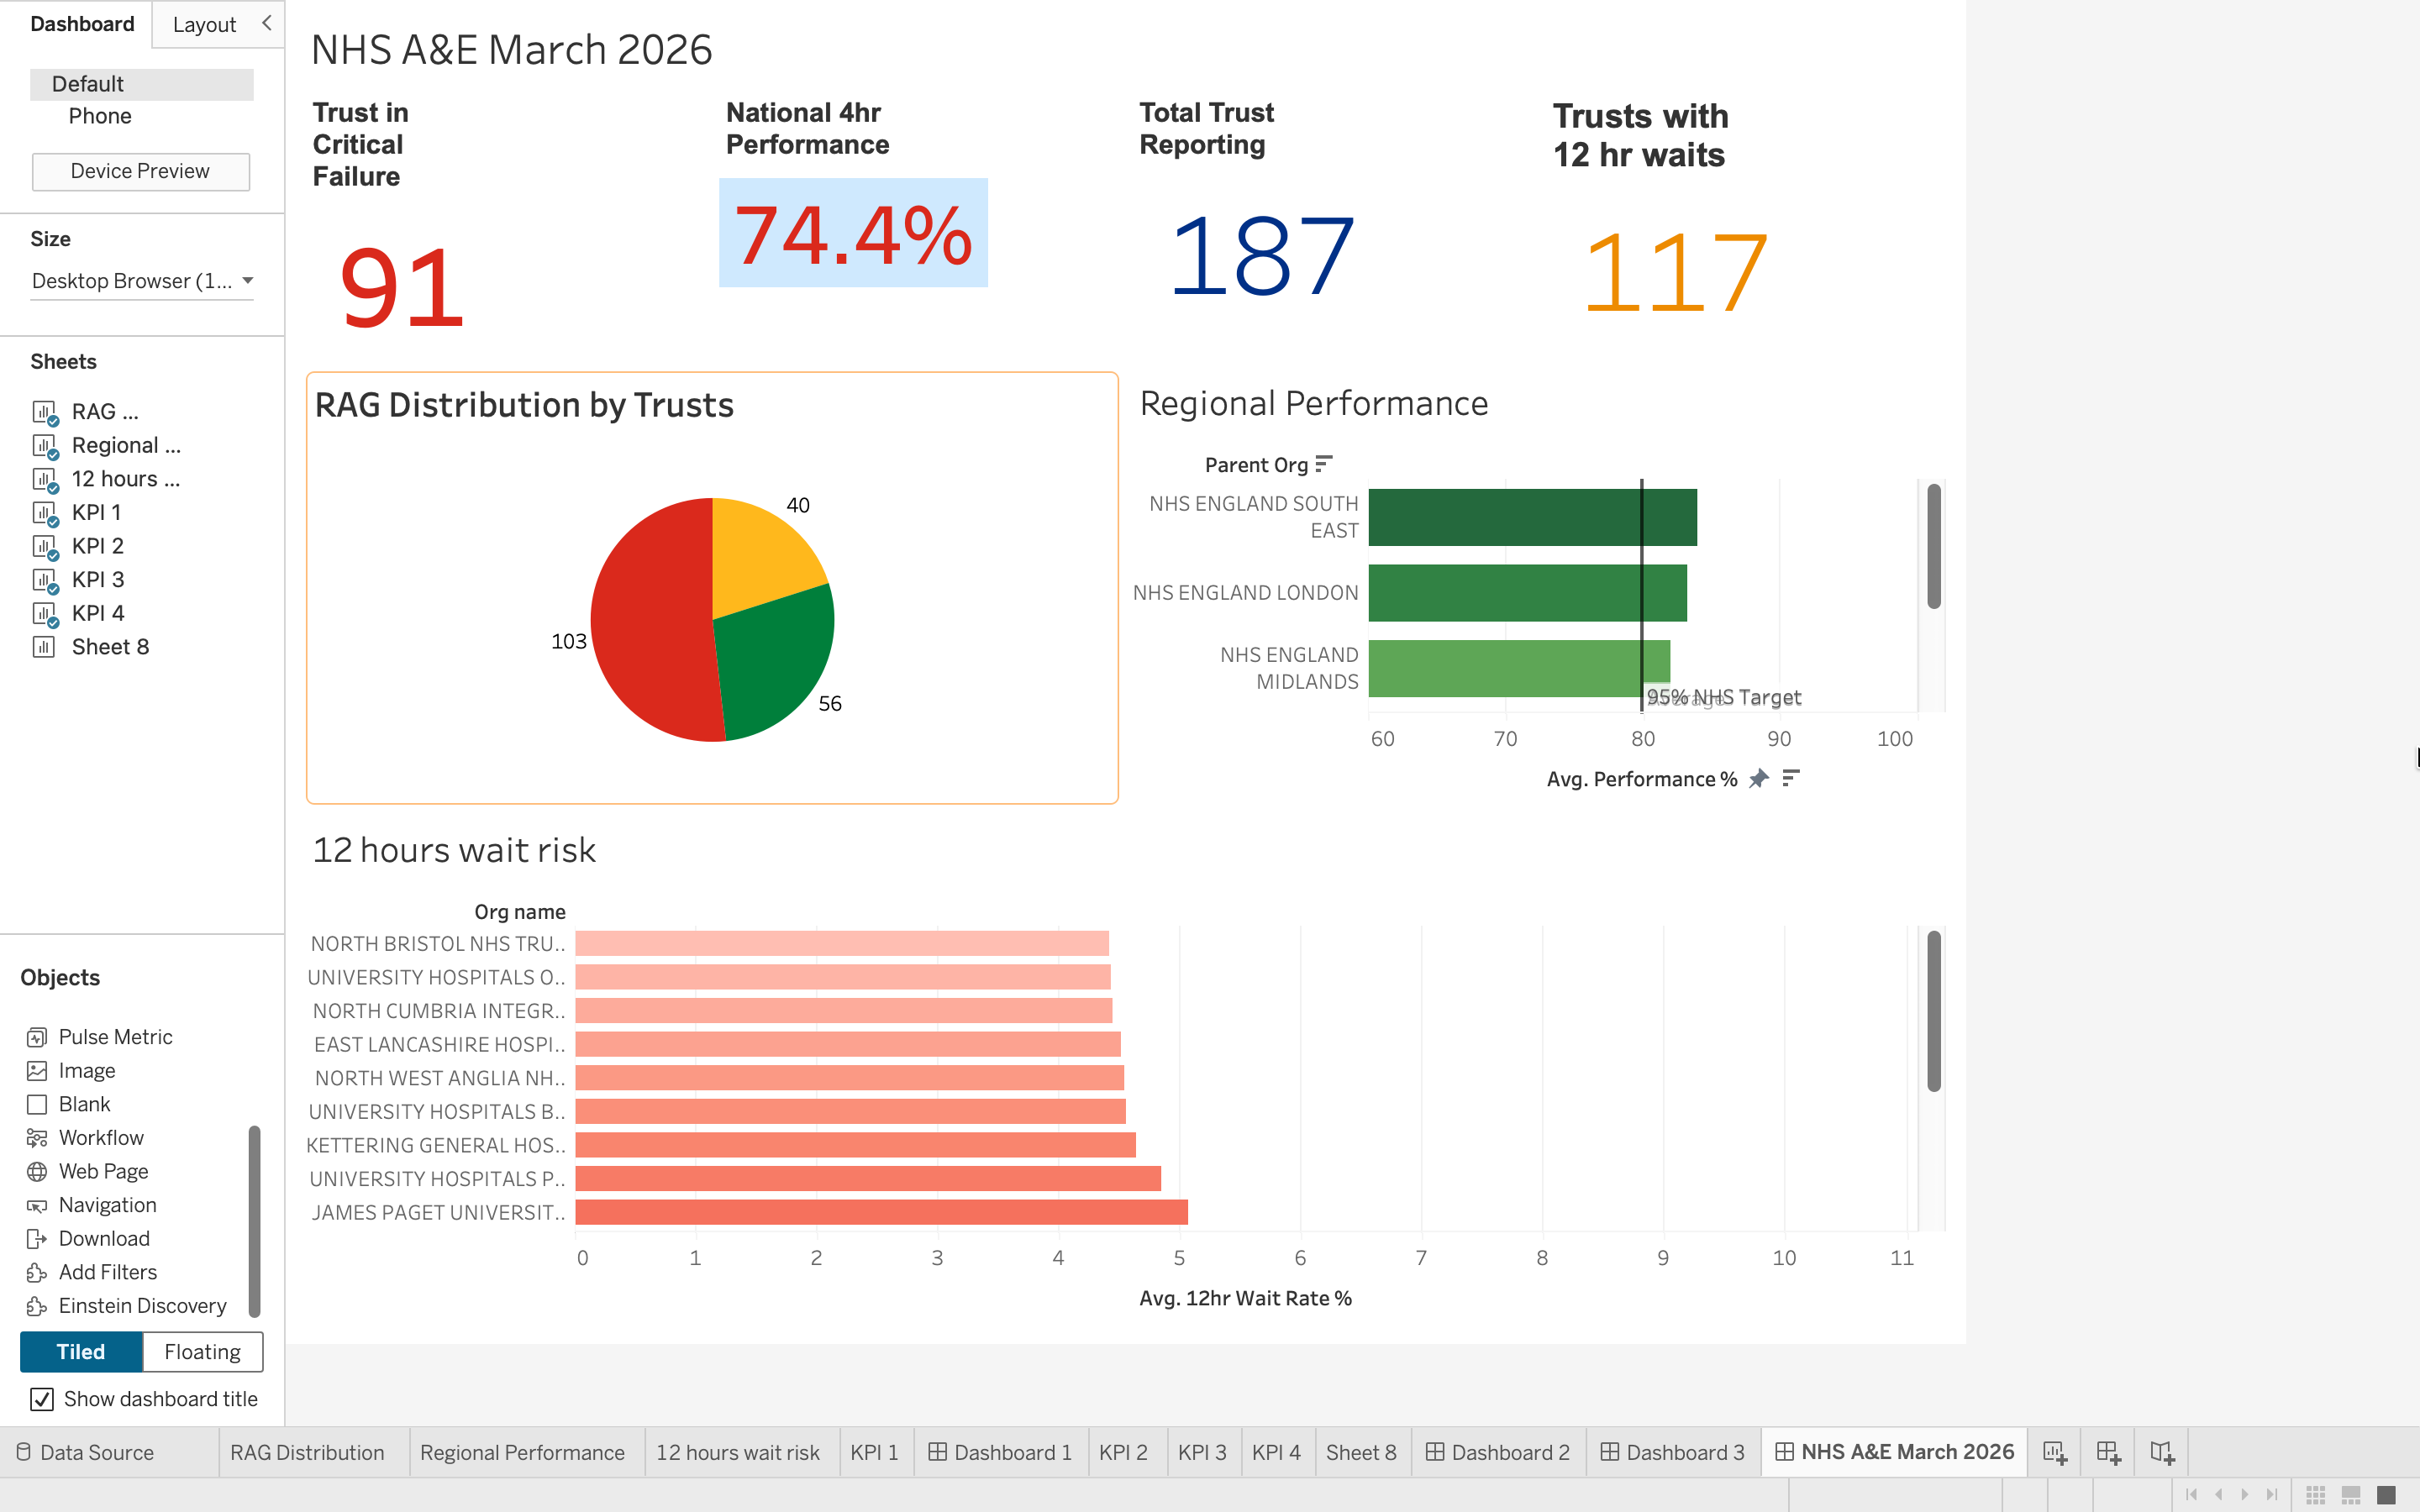

What the dashboard file says about the page in this screenshot:
{"tool":"tableau","page":{"name":"Dashboard 4","canvas":[1000,800],"ordinal":3},"visuals":[{"type":"title","box":[8,8,984,42]},{"type":"worksheet","title":"KPI 2 ","mark":"Text","box":[8,50,246,167]},{"type":"worksheet","title":"KPI 1","mark":"Text","box":[254,50,246,167]},{"type":"worksheet","title":"KPI 3","mark":"Text","box":[500,50,246,167]},{"type":"worksheet","title":"KPI 4","mark":"Text","box":[746,50,246,167]},{"type":"worksheet","title":"RAG Distribution ","mark":"Pie","box":[8,217,492,266]},{"type":"worksheet","title":"Regional Performance","mark":"Bar","rows":["Parent Org"],"cols":["Calculation_0092901856206850"],"box":[500,217,492,266]},{"type":"worksheet","title":"12 hours wait risk","mark":"Automatic","rows":["Org name"],"cols":["Calculation_0092901856763908"],"box":[8,483,984,309]}]}

Visuals, with their boxes on the page's 1000x800 design canvas (x1, y1, x2, y2). These are canvas units, not pixel positions in the 2420x1512 screenshot, which may show the page scaled, cropped or inside an application window:
title: box(8, 8, 992, 50)
"KPI 2 " worksheet (Text marks): box(8, 50, 254, 217)
"KPI 1" worksheet (Text marks): box(254, 50, 500, 217)
"KPI 3" worksheet (Text marks): box(500, 50, 746, 217)
"KPI 4" worksheet (Text marks): box(746, 50, 992, 217)
"RAG Distribution " worksheet (Pie marks): box(8, 217, 500, 483)
"Regional Performance" worksheet (Bar marks): box(500, 217, 992, 483)
"12 hours wait risk" worksheet: box(8, 483, 992, 792)
